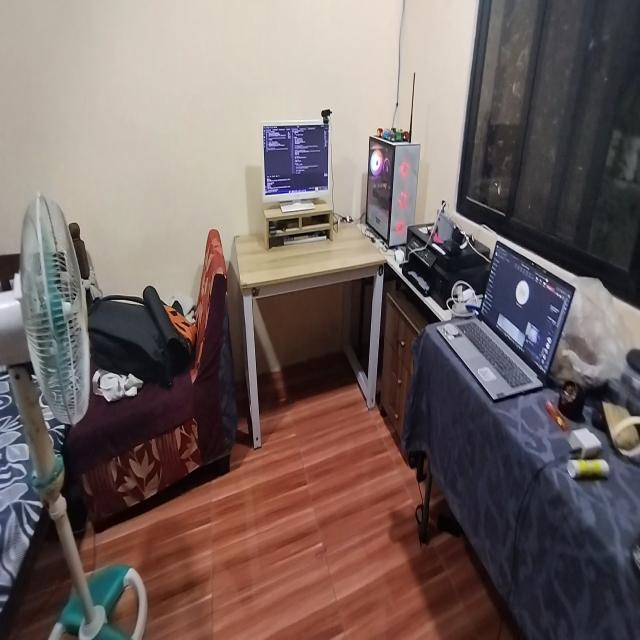table: (234, 216, 391, 443)
